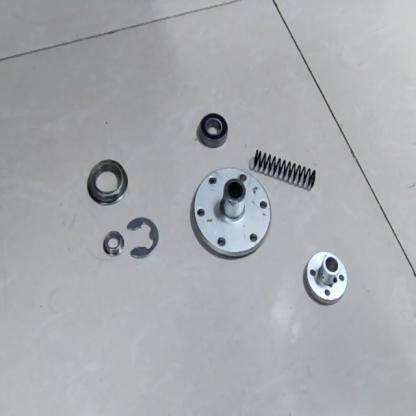FOD: (190, 166, 273, 260), (252, 146, 317, 192), (303, 249, 350, 305), (84, 156, 128, 209), (126, 213, 160, 264), (197, 111, 231, 151), (100, 227, 126, 258)
